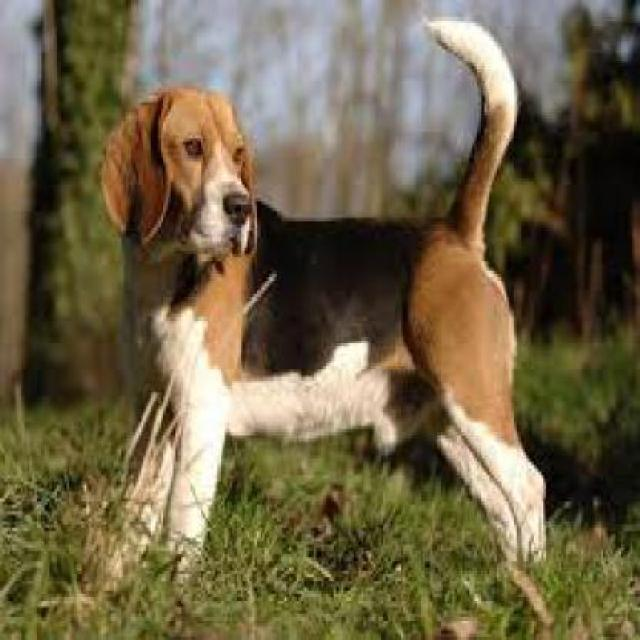Dog: (95, 11, 551, 617)
